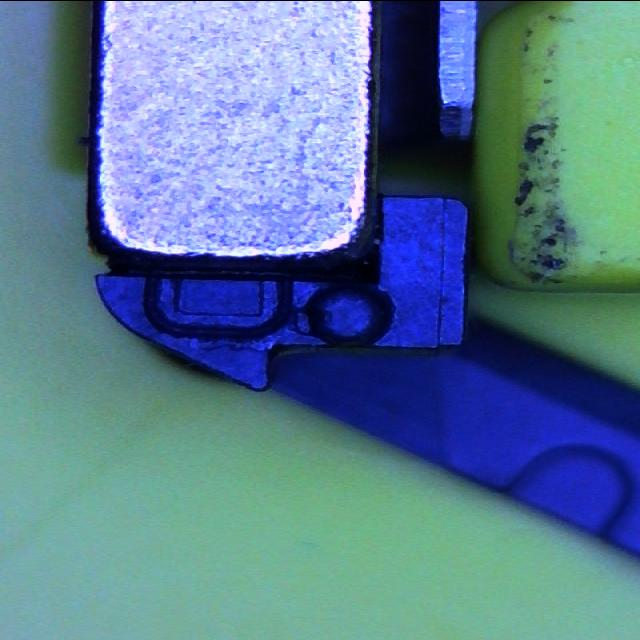lacking: (142, 269, 294, 339)
